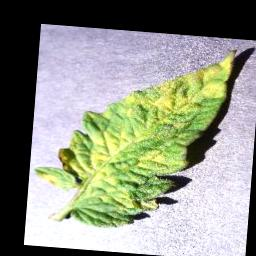Leaf_Mold: (28, 36, 236, 237)
